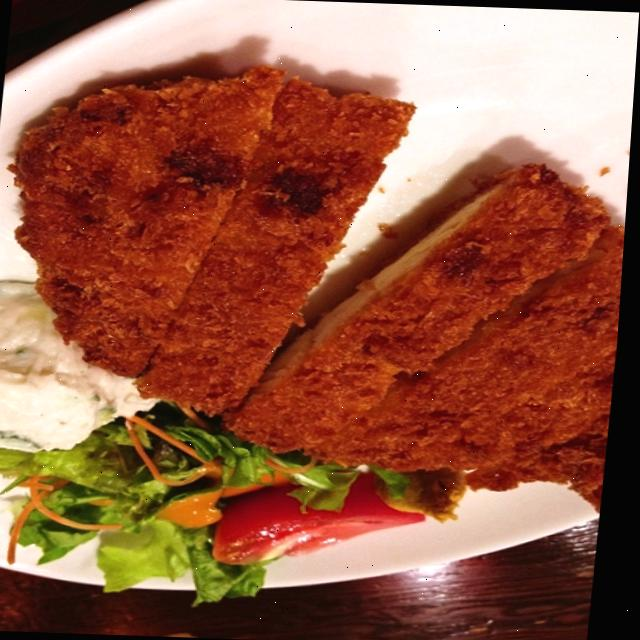鸡肉料理 含炸鸡: (0, 1, 636, 618)
